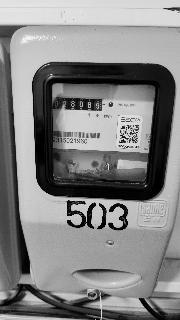1: (55, 101, 58, 107), (80, 101, 83, 107)
3: (64, 101, 67, 107)
9: (72, 101, 75, 107), (89, 102, 92, 108)
:: (97, 103, 100, 109)
